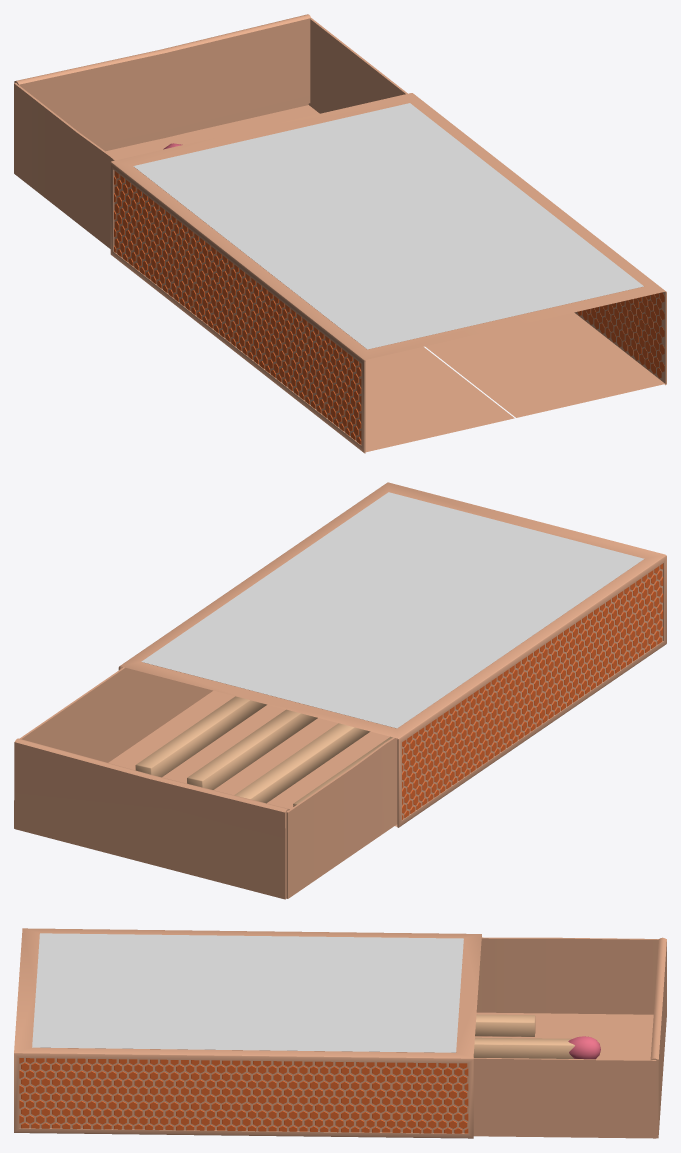
The model's file is matchbox_2.fbx.
3 views of the same model, one above another, from view 1: azimuth 30°, elevation 25°; view 2: azimuth 150°, elevation 25°; view 3: azimuth 270°, elevation 25° (orthographic). The views are drawn at different scales.
Visible parts, largest first — view 1: Cube, Cube.001; view 2: Cube, Cube.001, Cube.007, Cube.003, Cube.006; view 3: Cube, Cube.001, Cube.006, Cube.002.
Boxes of the visible parts, x1=… form: Cube: x1=110, y1=93, x2=666, y2=453; Cube.001: x1=14, y1=14, x2=407, y2=248; Cube: x1=118, y1=482, x2=666, y2=827; Cube.001: x1=14, y1=667, x2=397, y2=899; Cube.007: x1=135, y1=696, x2=266, y2=777; Cube.003: x1=187, y1=709, x2=317, y2=789; Cube.006: x1=234, y1=723, x2=370, y2=803; Cube: x1=14, y1=928, x2=481, y2=1138; Cube.001: x1=473, y1=937, x2=666, y2=1138; Cube.006: x1=473, y1=1036, x2=600, y2=1059; Cube.002: x1=475, y1=1014, x2=535, y2=1036.
Size of the model in its own units: 16.05 by 4.61 by 33.64.
